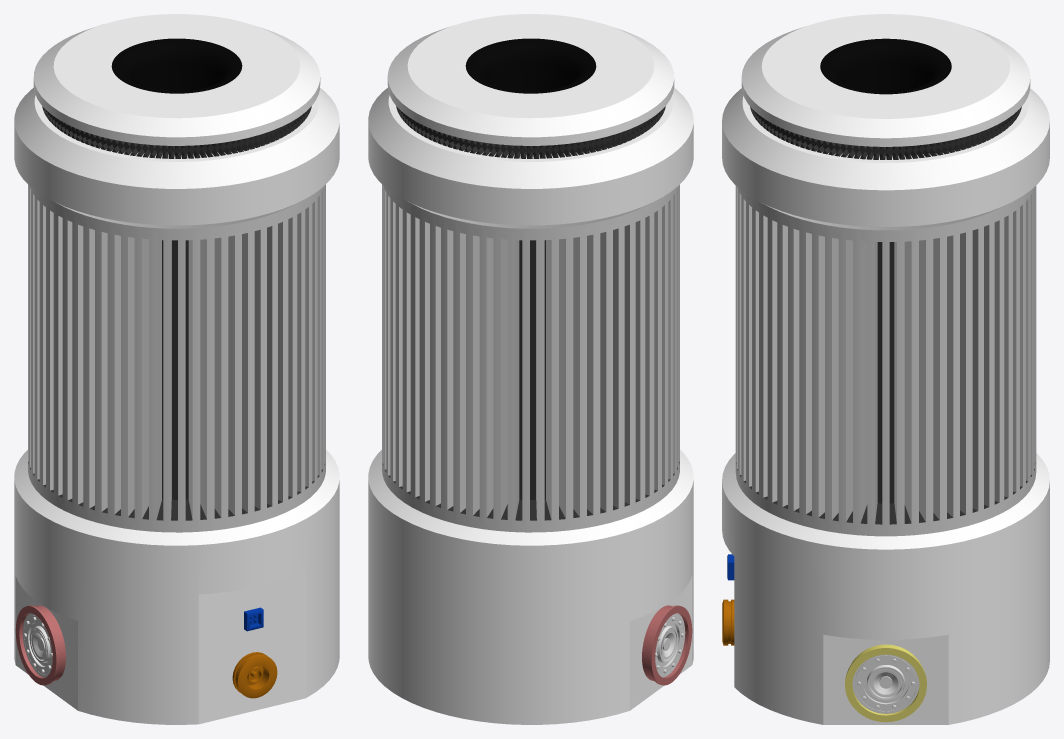
File: SabatierReactor.gltf
3 renders of one model, left to right at view 1: azimuth 30°, elevation 25°; view 2: azimuth 150°, elevation 25°; view 3: azimuth 270°, elevation 25°, orthographic.
Visible parts, largest first — view 1: base; view 2: base; view 3: base.
Part boxes in pixels (box(x1,y1,x2,y2)): base: box(14, 14, 339, 724); base: box(368, 14, 693, 724); base: box(722, 14, 1049, 724).
Bounding box in the file's own units: 1 × 2 × 1.
